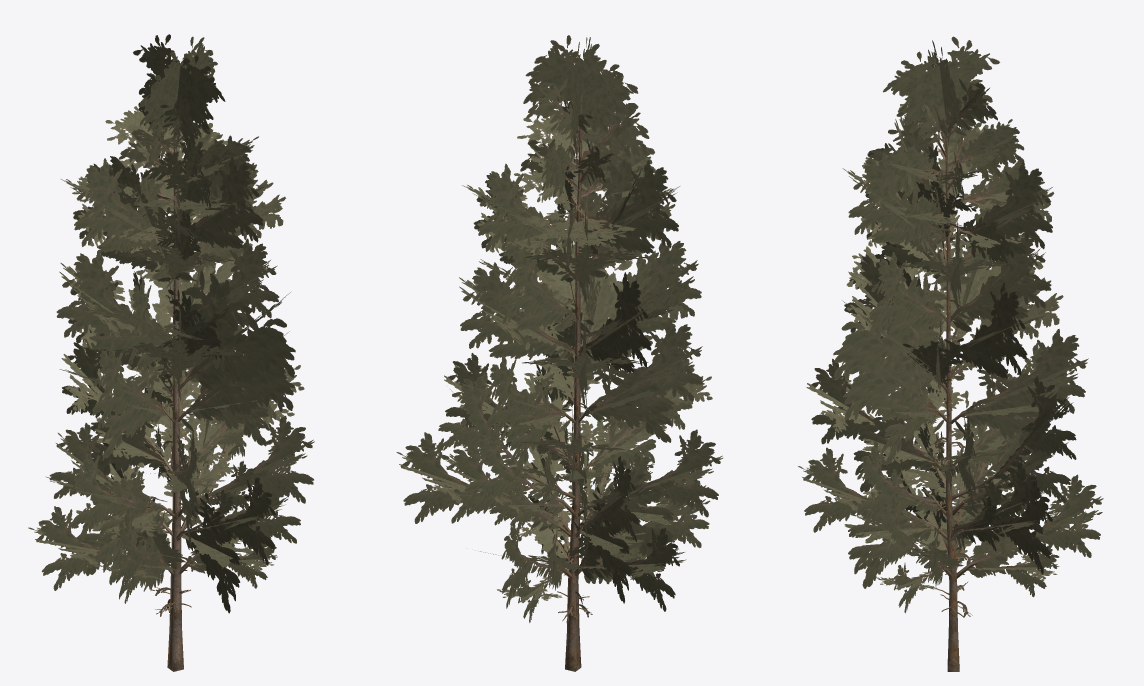
The model's file is CasuarinaEquisetifolia.glb.
The picture shows the model from 3 angles, left to right: view 1: azimuth 30°, elevation 25°; view 2: azimuth 150°, elevation 25°; view 3: azimuth 270°, elevation 25°; orthographic projection.
Visible parts, largest first — view 1: Australian_Pine__Realistic_LOD3; view 2: Australian_Pine__Realistic_LOD3; view 3: Australian_Pine__Realistic_LOD3.
Boxes of the visible parts, bbox=[...] form: Australian_Pine__Realistic_LOD3: bbox=[28, 34, 314, 671]; Australian_Pine__Realistic_LOD3: bbox=[396, 35, 722, 671]; Australian_Pine__Realistic_LOD3: bbox=[798, 36, 1103, 671].
Size of the model in its own units: 10.3 by 20.29 by 10.23.
1 material, 1 textured.
